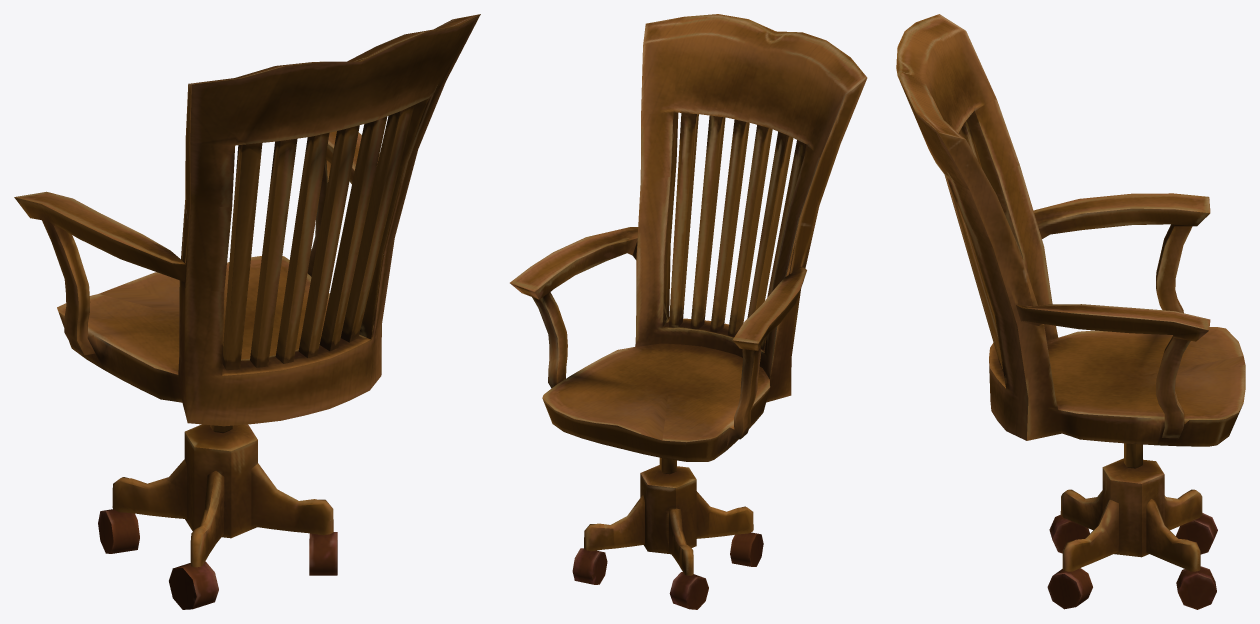
Rendered from chaise_bureau_shatter.fbx.
3 renders of one model, left to right at view 1: azimuth 30°, elevation 25°; view 2: azimuth 150°, elevation 25°; view 3: azimuth 270°, elevation 25°, orthographic. The views are drawn at different scales.
Parts seen in each view (by area): view 1: Pieces_2, Pieces_3, Pieces_1, Pieces_2_2, Pieces_2_3, Pieces_2_4, Cube_1_2_2, Cube_1, Pieces_1_1, Cube_1_1, Pieces_2_6, Pieces_4 (+3 smaller); view 2: Pieces_3, Pieces_2, Pieces_1, Pieces_4, Pieces_2_2, Pieces_2_6, Pieces_2_5, Cube_1, Pieces_1_1, Cube_1_2, Cube_1_2_2, Pieces_1_2_2 (+2 smaller); view 3: Pieces_2, Pieces_3, Pieces_1, Pieces_4, Pieces_1_2_2, Pieces_2_2, Cube_1_1, Cube_1_2, Pieces_2_3, Pieces_2_5, Pieces_2_6, Pieces_2_4 (+4 smaller).
Boxes of the visible parts, <box> form: Pieces_2: <box>14,105,333,426</box>; Pieces_3: <box>189,14,480,264</box>; Pieces_1: <box>224,206,390,407</box>; Pieces_2_2: <box>184,426,257,538</box>; Pieces_2_3: <box>251,473,333,535</box>; Pieces_2_4: <box>112,477,186,518</box>; Cube_1_2_2: <box>169,561,218,609</box>; Cube_1: <box>98,509,139,553</box>; Pieces_1_1: <box>291,188,318,289</box>; Cube_1_1: <box>309,532,337,575</box>; Pieces_2_6: <box>190,510,223,567</box>; Pieces_4: <box>187,83,361,243</box>; Pieces_3: <box>552,14,867,277</box>; Pieces_2: <box>594,101,857,461</box>; Pieces_1: <box>542,187,741,441</box>; Pieces_4: <box>510,88,854,363</box>; Pieces_2_2: <box>644,466,696,554</box>; Pieces_2_6: <box>696,506,753,538</box>; Pieces_2_5: <box>587,501,644,551</box>; Cube_1: <box>669,572,708,609</box>; Pieces_1_1: <box>737,167,766,265</box>; Cube_1_2: <box>572,548,607,584</box>; Cube_1_2_2: <box>730,532,763,566</box>; Pieces_1_2_2: <box>640,457,676,498</box>; Pieces_2: <box>959,61,1245,411</box>; Pieces_3: <box>896,14,1134,348</box>; Pieces_1: <box>963,237,1245,446</box>; Pieces_4: <box>955,24,1210,409</box>; Pieces_1_2_2: <box>1106,443,1164,512</box>; Pieces_2_2: <box>1102,458,1164,557</box>; Cube_1_1: <box>1047,568,1092,609</box>; Cube_1_2: <box>1176,566,1216,609</box>; Pieces_2_3: <box>1062,510,1118,571</box>; Pieces_2_5: <box>1146,502,1190,571</box>; Pieces_2_6: <box>1060,489,1100,530</box>; Pieces_2_4: <box>1164,489,1202,529</box>.
Bounding box in the file's own units: 25.39 × 45.86 × 28.03.
2 materials, 1 textured.
